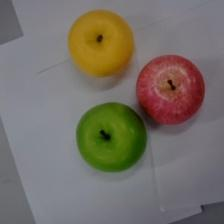green: (76, 102, 147, 172)
red: (136, 55, 205, 125)
yellow: (68, 9, 135, 77)
